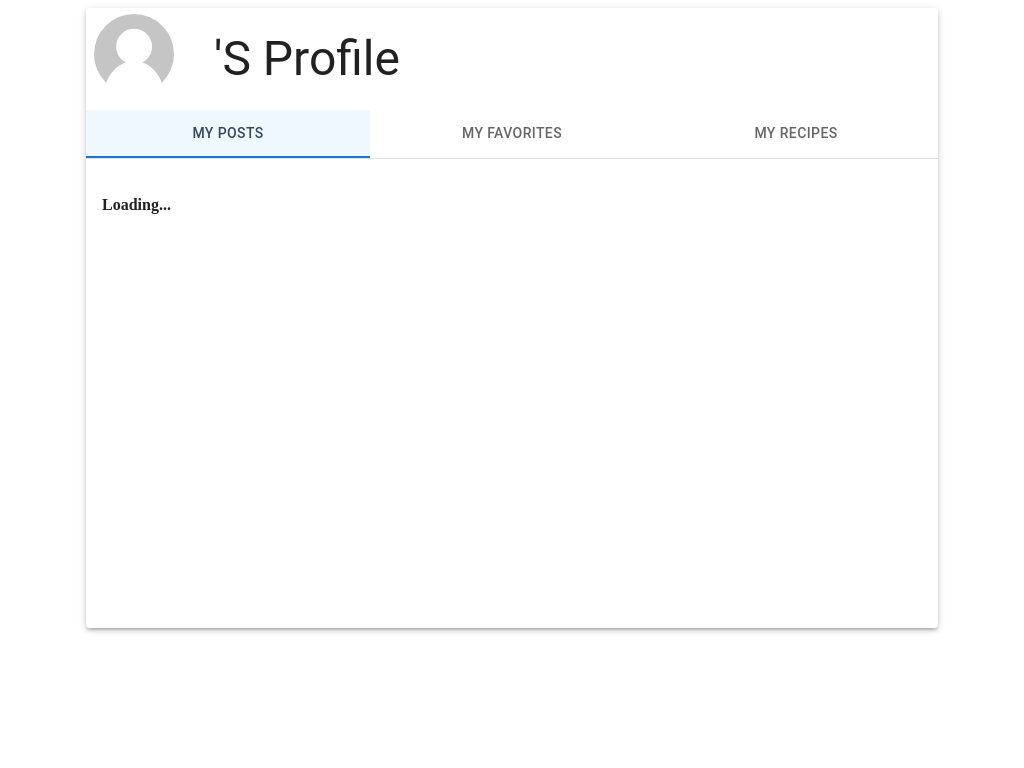
it: Display Profile Page Items › Ensure Profile Image and Upload is visible
Check: the picture with alt text "Profile" is shown, box [94, 14, 174, 94]
Click the button named "Click to Change Image" at (134, 59), box [86, 8, 182, 110]
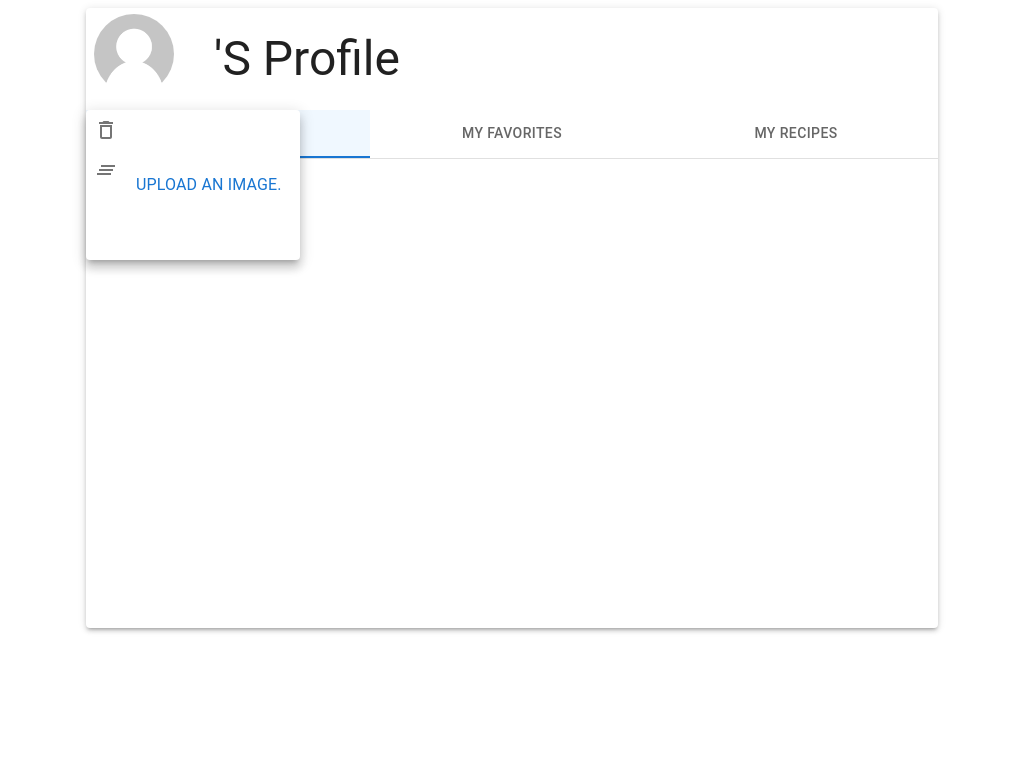
Check: the heading "Upload an image." is shown, box [136, 171, 282, 199]
Check: the button named "Delete Current Image" is shown, box [86, 110, 126, 150]
Check: the button named "Delete All Images" is shown, box [86, 150, 126, 190]
